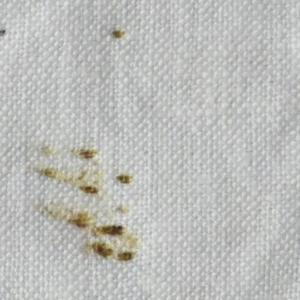Oil Stain: (20, 138, 144, 267), (105, 25, 132, 45)
Stain: (1, 28, 10, 39)
